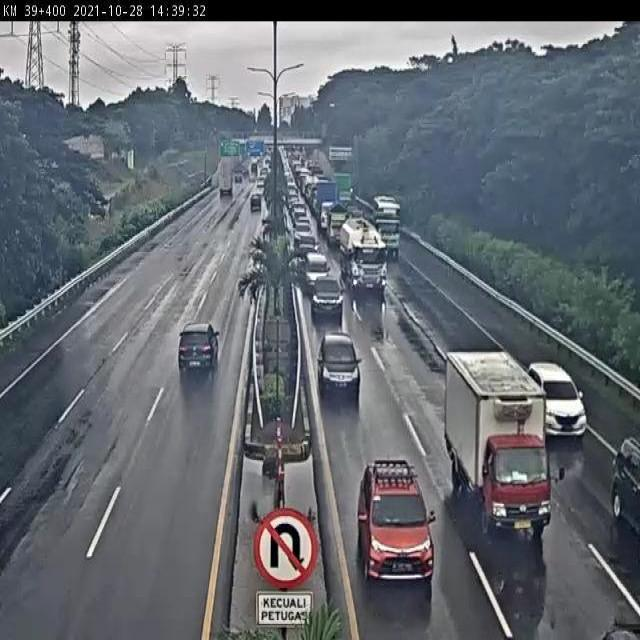car: (370, 457, 438, 579), (604, 423, 640, 531), (529, 354, 582, 426), (173, 324, 223, 379), (312, 307, 352, 375), (305, 265, 341, 311), (304, 247, 330, 280), (241, 199, 265, 224)
truck: (461, 363, 559, 535), (334, 216, 382, 292), (369, 209, 399, 260), (204, 168, 234, 203), (377, 193, 402, 228)
